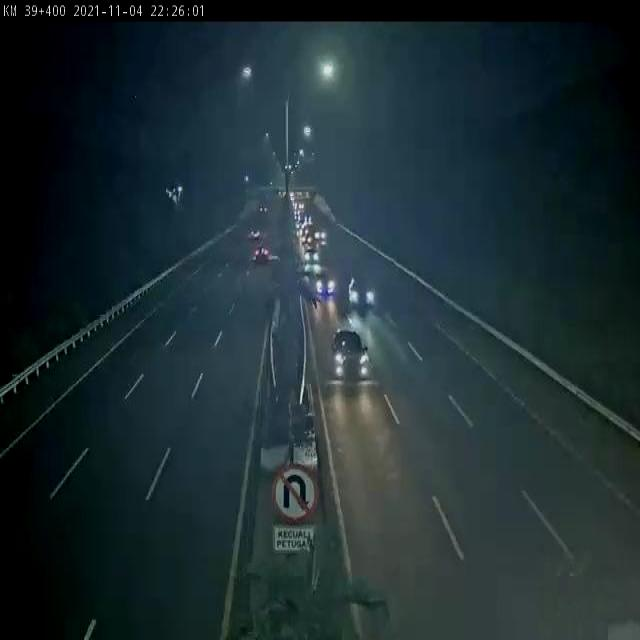Car: (329, 328, 372, 380), (348, 277, 378, 307), (315, 272, 335, 299), (304, 247, 320, 265), (255, 245, 268, 263)
